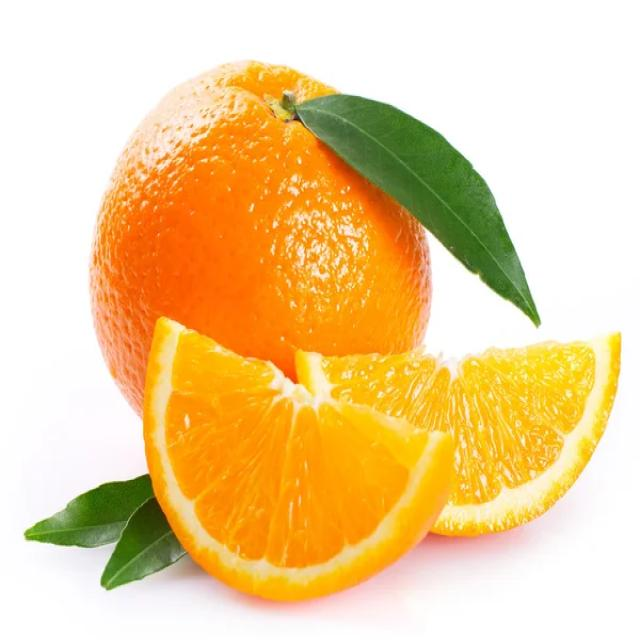orange: (61, 44, 432, 478), (125, 316, 453, 590), (309, 322, 626, 535)
